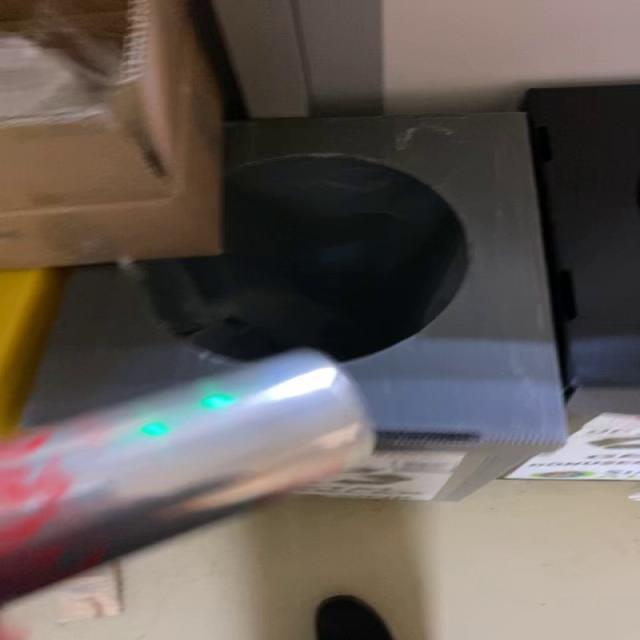Bin: (23, 113, 567, 500)
Metal: (1, 350, 373, 600)
